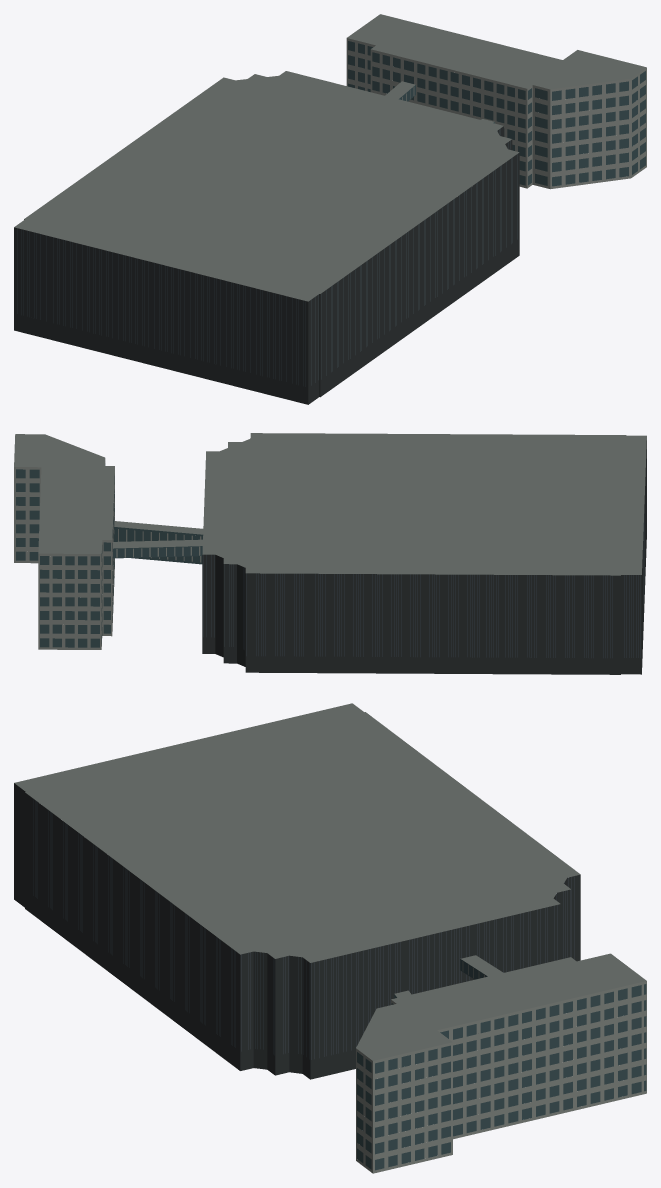
The model's file is ziggo-dome-near.glb.
3 views of the same model, one above another, from view 1: azimuth 30°, elevation 25°; view 2: azimuth 150°, elevation 25°; view 3: azimuth 270°, elevation 25° (orthographic). The views are drawn at different scales.
Parts seen in each view (by area): view 1: ziggo-dome-0-roof, ziggo-dome-0-black, ziggo-dome-0-steel, ziggo-dome-0-led, ziggo-dome-0-glass; view 2: ziggo-dome-0-roof, ziggo-dome-0-black, ziggo-dome-0-led, ziggo-dome-0-glass, ziggo-dome-0-steel; view 3: ziggo-dome-0-roof, ziggo-dome-0-black, ziggo-dome-0-steel, ziggo-dome-0-glass, ziggo-dome-0-led.
Boxes of the visible parts, x1,y1,x2,y2 form: ziggo-dome-0-roof: (14, 14, 646, 301); ziggo-dome-0-black: (14, 126, 519, 404); ziggo-dome-0-steel: (346, 38, 646, 189); ziggo-dome-0-led: (17, 128, 517, 386); ziggo-dome-0-glass: (348, 41, 645, 186); ziggo-dome-0-roof: (14, 433, 646, 575); ziggo-dome-0-black: (202, 440, 646, 674); ziggo-dome-0-led: (203, 514, 644, 657); ziggo-dome-0-glass: (16, 463, 203, 647); ziggo-dome-0-steel: (14, 461, 201, 649); ziggo-dome-0-roof: (14, 703, 646, 1060); ziggo-dome-0-black: (14, 783, 580, 1079); ziggo-dome-0-steel: (356, 961, 646, 1173); ziggo-dome-0-glass: (357, 959, 646, 1170); ziggo-dome-0-led: (33, 799, 574, 1059).
Size of the model in its own units: 195 by 30 by 148.
